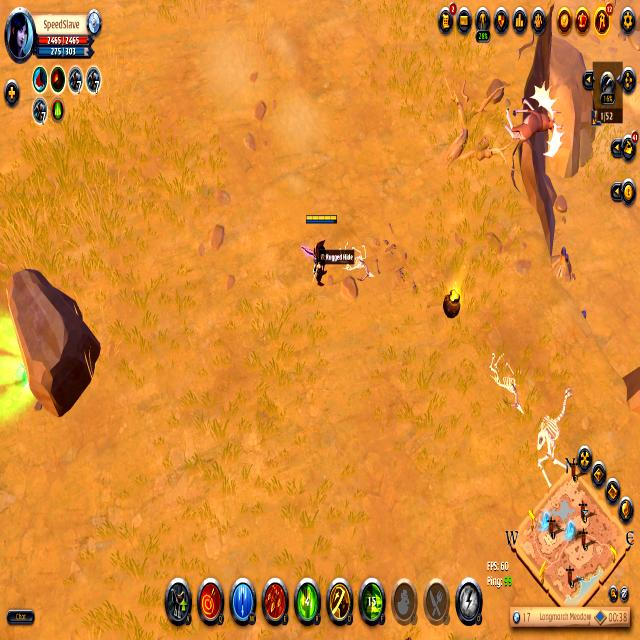mob: (502, 80, 566, 152)
player: (551, 243, 574, 282)
red: (302, 212, 338, 285)
